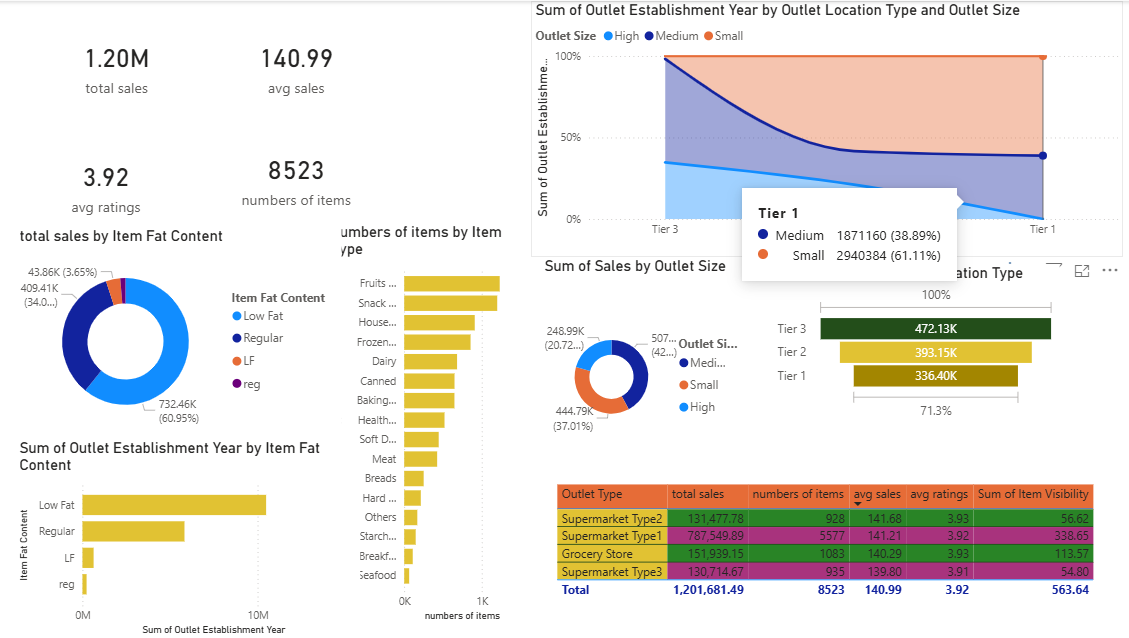

The page's visual inventory and layout, read from the dashboard file:
{"tool":"powerbi","page":{"name":"Page 1","canvas":[1280,720],"ordinal":0},"visuals":[{"type":"card","fields":{"Values":["BlinkIT Grocery Data.total sales"]},"box":[9.5,0,253.7,145.8],"z":0},{"type":"card","fields":{"Values":["BlinkIT Grocery Data.avg sales"]},"box":[239,0,199,146],"z":1000},{"type":"card","fields":{"Values":["BlinkIT Grocery Data.avg ratings"]},"box":[9,146,230,121],"z":2000},{"type":"card","fields":{"Values":["BlinkIT Grocery Data.numbers of items"]},"box":[239,132,199,135],"z":3000},{"type":"clusteredBarChart","fields":{"Category":["BlinkIT Grocery Data.Item Type"],"Y":["BlinkIT Grocery Data.numbers of items"]},"box":[373.3,250,230,453.3],"z":4000},{"type":"donutChart","fields":{"Y":["BlinkIT Grocery Data.total sales"],"Category":["BlinkIT Grocery Data.Item Fat Content"]},"box":[21,255,368,239],"z":5000},{"type":"barChart","fields":{"Category":["BlinkIT Grocery Data.Item Fat Content"],"Y":["Sum(BlinkIT Grocery Data.Outlet Establishment Year)"]},"box":[21,494,389,226],"z":6000},{"type":"hundredPercentStackedAreaChart","fields":{"Y":["Sum(BlinkIT Grocery Data.Outlet Establishment Year)"],"Category":["BlinkIT Grocery Data.Outlet Location Type"],"Series":["BlinkIT Grocery Data.Outlet Size"]},"box":[603,0,667,289],"z":7000},{"type":"donutChart","fields":{"Category":["BlinkIT Grocery Data.Outlet Size"],"Y":["Sum(BlinkIT Grocery Data.Sales)"]},"box":[613,289,234,251],"z":8000},{"type":"funnel","fields":{"Category":["BlinkIT Grocery Data.Outlet Location Type"],"Y":["Sum(BlinkIT Grocery Data.Sales)"]},"box":[875.6,296.7,323.3,180],"z":9000},{"type":"tableEx","fields":{"Values":["BlinkIT Grocery Data.Outlet Type","BlinkIT Grocery Data.total sales","BlinkIT Grocery Data.numbers of items","BlinkIT Grocery Data.avg sales","BlinkIT Grocery Data.avg ratings","Sum(BlinkIT Grocery Data.Item Visibility)"]},"box":[627,540,620,163],"z":10000}]}

Visuals, with their boxes in screenshot pixels (x1, y1, x2, y2), scaled from the page's 1280x720 canvas onto the 1129x638 screenshot:
card - BlinkIT Grocery Data.total sales: <box>8,0,232,129</box>
card - BlinkIT Grocery Data.avg sales: <box>211,0,386,129</box>
card - BlinkIT Grocery Data.avg ratings: <box>8,129,211,237</box>
card - BlinkIT Grocery Data.numbers of items: <box>211,117,386,237</box>
clusteredBarChart - BlinkIT Grocery Data.Item Type x BlinkIT Grocery Data.numbers of items: <box>329,222,532,623</box>
donutChart - BlinkIT Grocery Data.total sales x BlinkIT Grocery Data.Item Fat Content: <box>19,226,343,438</box>
barChart - BlinkIT Grocery Data.Item Fat Content x Sum(BlinkIT Grocery Data.Outlet Establishment Year): <box>19,438,362,637</box>
hundredPercentStackedAreaChart - Sum(BlinkIT Grocery Data.Outlet Establishment Year) x BlinkIT Grocery Data.Outlet Location Type: <box>532,0,1120,256</box>
donutChart - BlinkIT Grocery Data.Outlet Size x Sum(BlinkIT Grocery Data.Sales): <box>541,256,747,478</box>
funnel - BlinkIT Grocery Data.Outlet Location Type x Sum(BlinkIT Grocery Data.Sales): <box>772,263,1057,422</box>
tableEx - BlinkIT Grocery Data.Outlet Type x BlinkIT Grocery Data.total sales: <box>553,478,1100,623</box>
